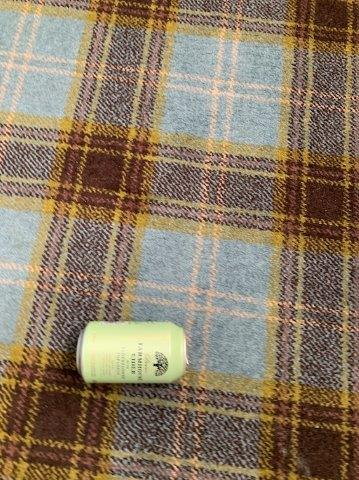kaleng: (77, 322, 187, 382)
